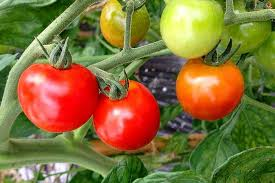tomato: (17, 63, 101, 130), (171, 56, 245, 126), (89, 81, 161, 152)
